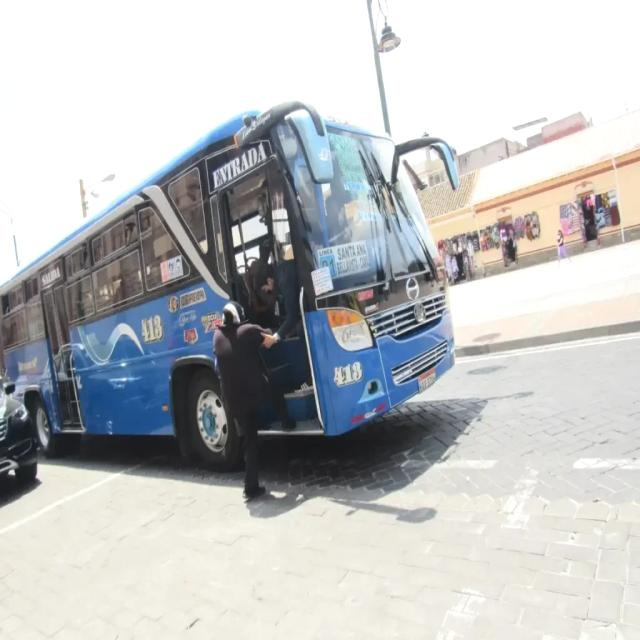BUS: (0, 107, 452, 449)
